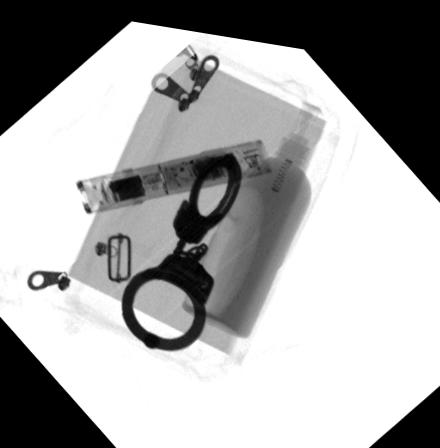Baton: (74, 128, 274, 213)
HandCuffs: (119, 141, 243, 345)
